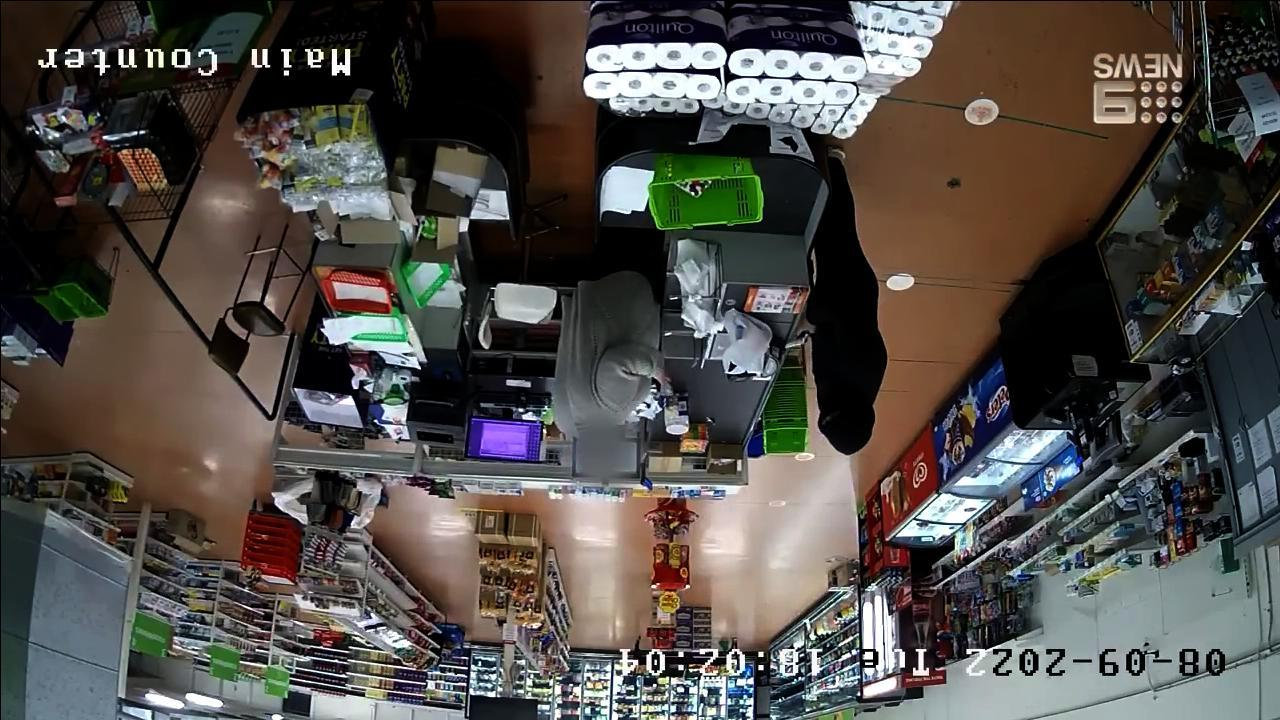gun: (770, 310, 823, 354)
